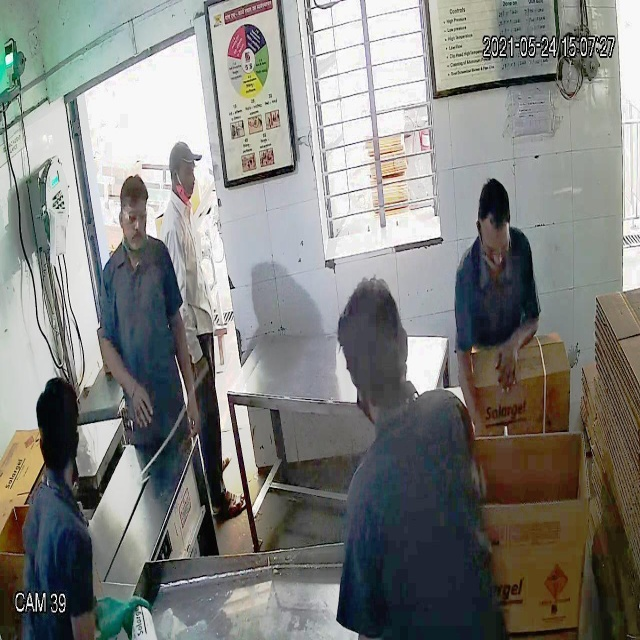Gafas: (480, 230, 512, 264), (116, 203, 151, 230)
